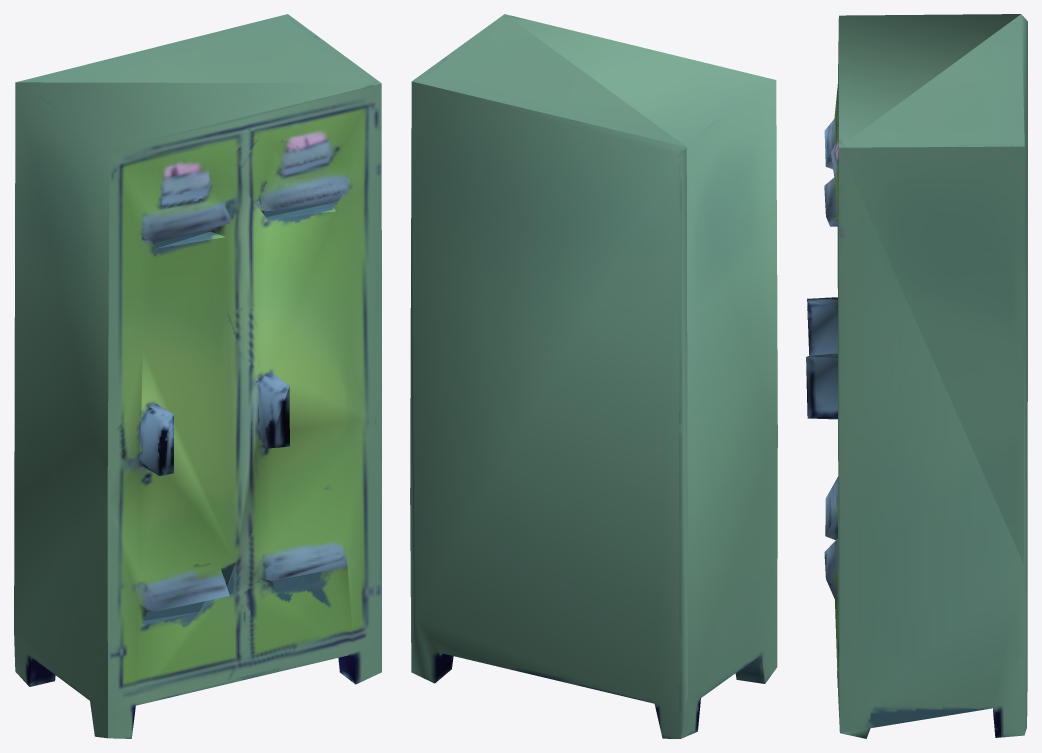
The model's file is gym-lockers.glb.
3 views of the same model, side by side, from view 1: azimuth 30°, elevation 25°; view 2: azimuth 150°, elevation 25°; view 3: azimuth 270°, elevation 25° (orthographic).
Parts seen in each view (by area): view 1: geometry_0.001; view 2: geometry_0.001; view 3: geometry_0.001.
Part boxes in pixels (box(x1,y1,x2,y2)): geometry_0.001: box(14, 14, 381, 738); geometry_0.001: box(410, 14, 777, 738); geometry_0.001: box(806, 14, 1027, 738).
Bounding box in the file's own units: 0.4845 × 0.9974 × 0.3379.
Materials: 1 (1 with a texture image).
